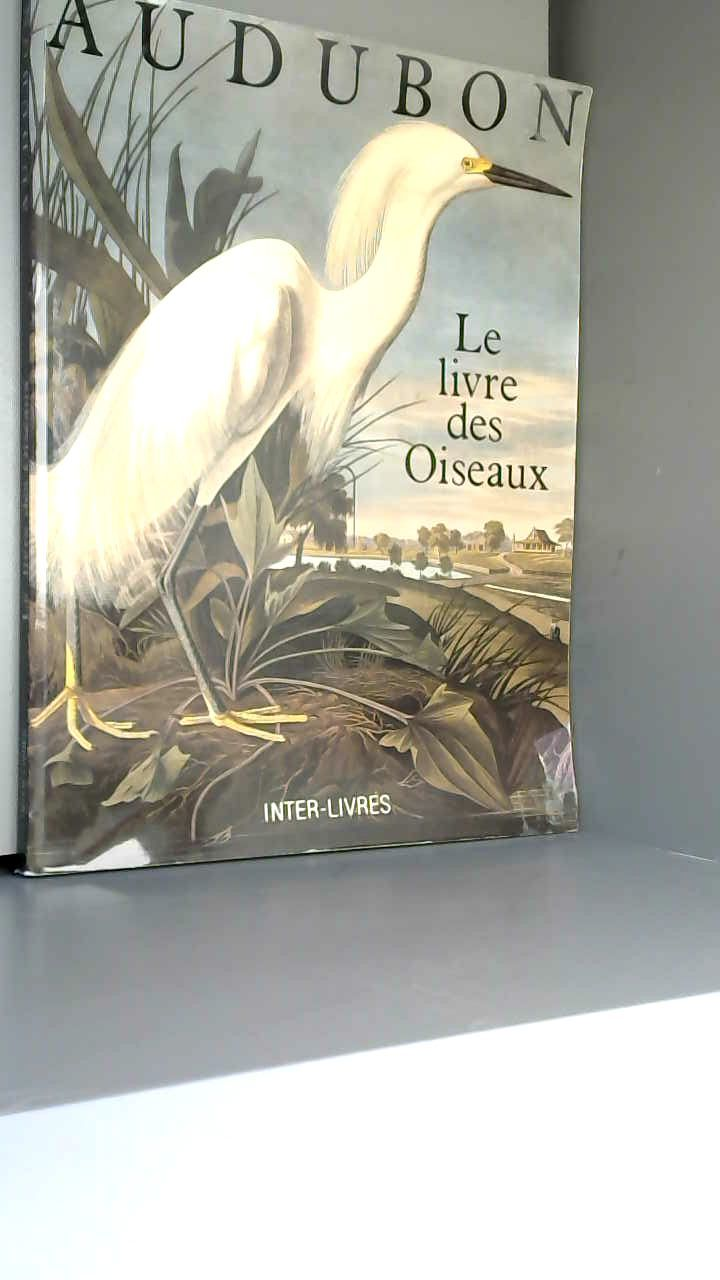book: (0, 0, 625, 909)
